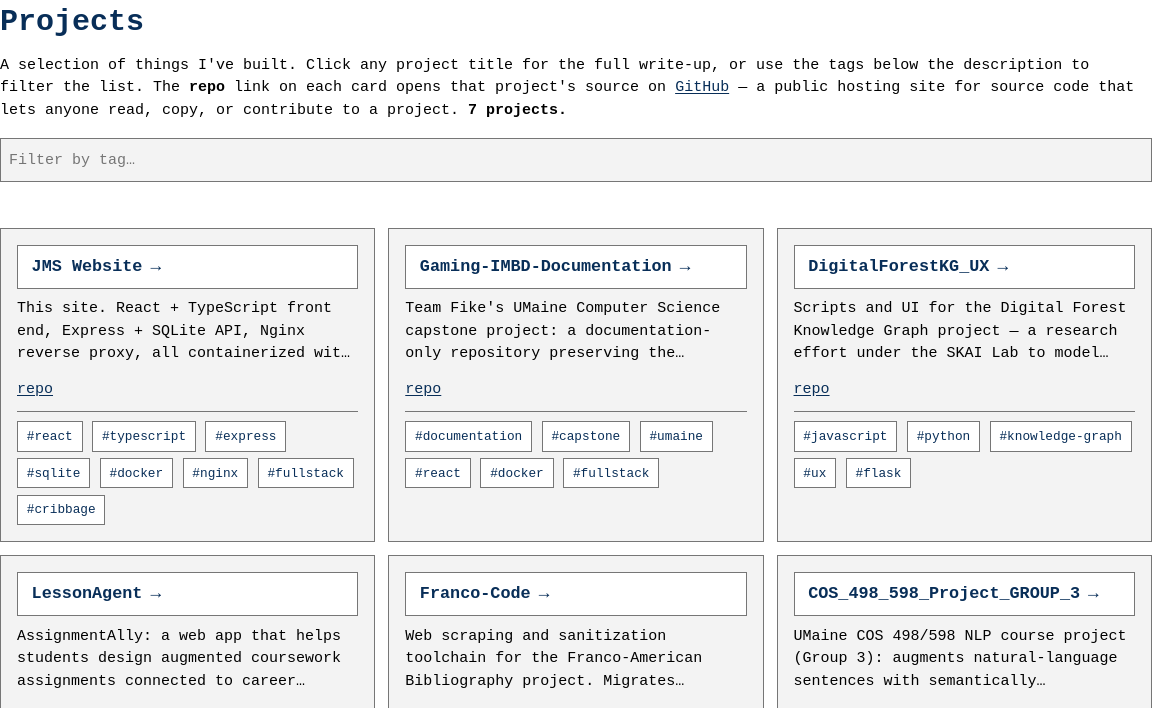
Test: Projects a11y › opens listbox on ArrowDown and selects on Enter
This screenshot has width=1152, height=708.
Click the dropdown named "filter projects by tag": click(576, 160) [0,138,1151,182]
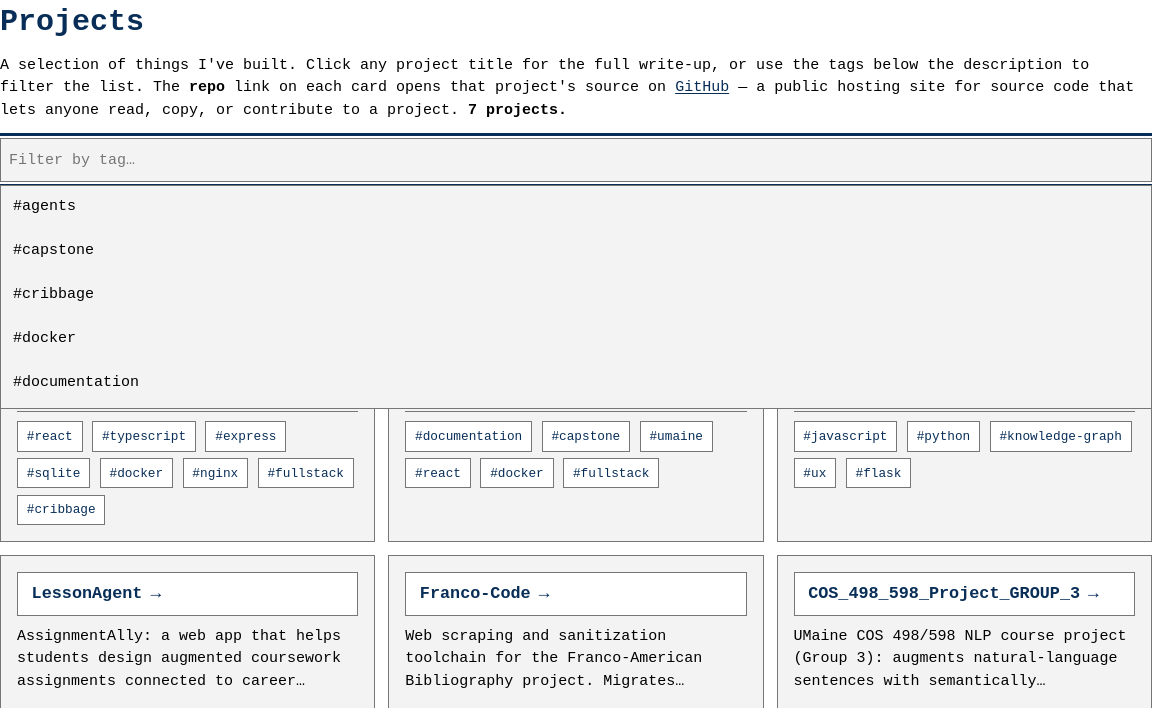
Press Arrowdown
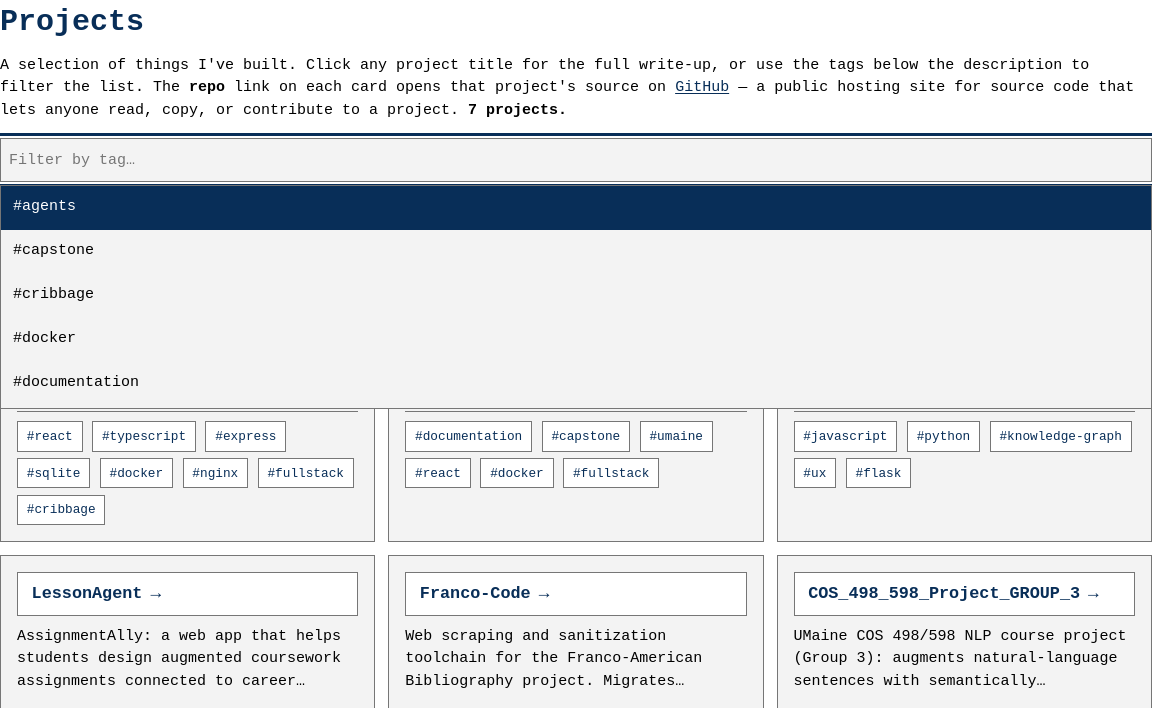
Check: the list that starts with "agents" is shown, box [0,185,1151,409]
Check: the option "#agents" is shown, box [1,186,1151,230]
Press Enter
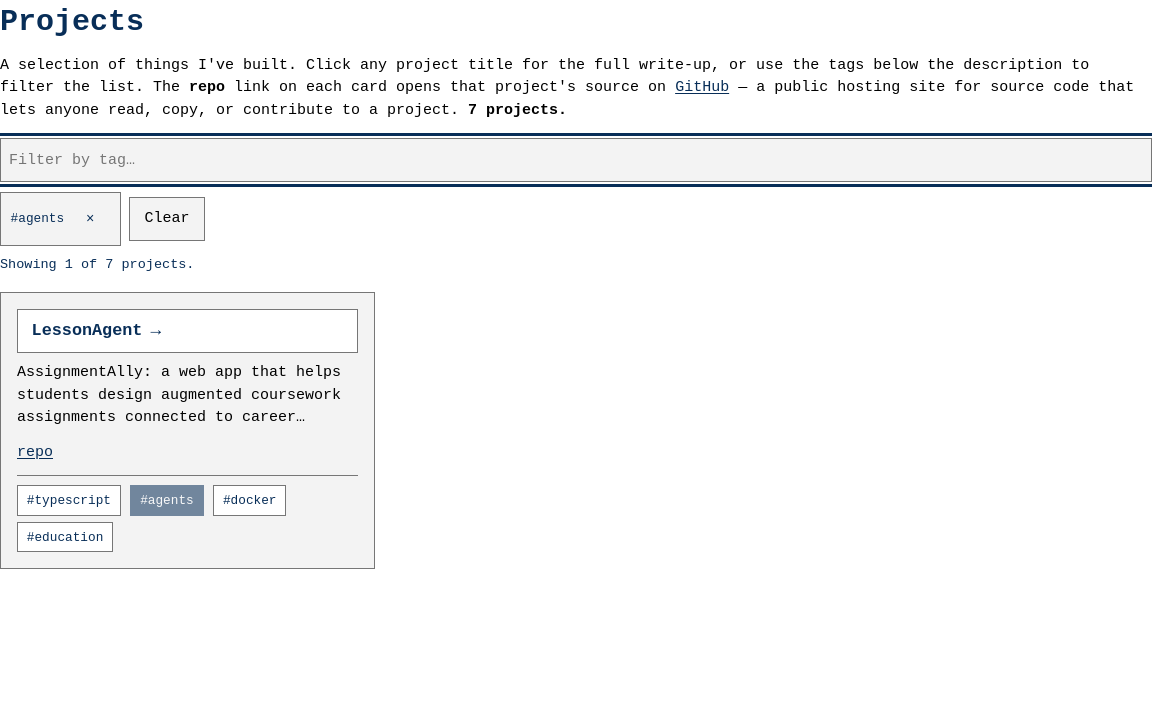
Check: the list named "active filters" is shown, box [0,192,205,246]
